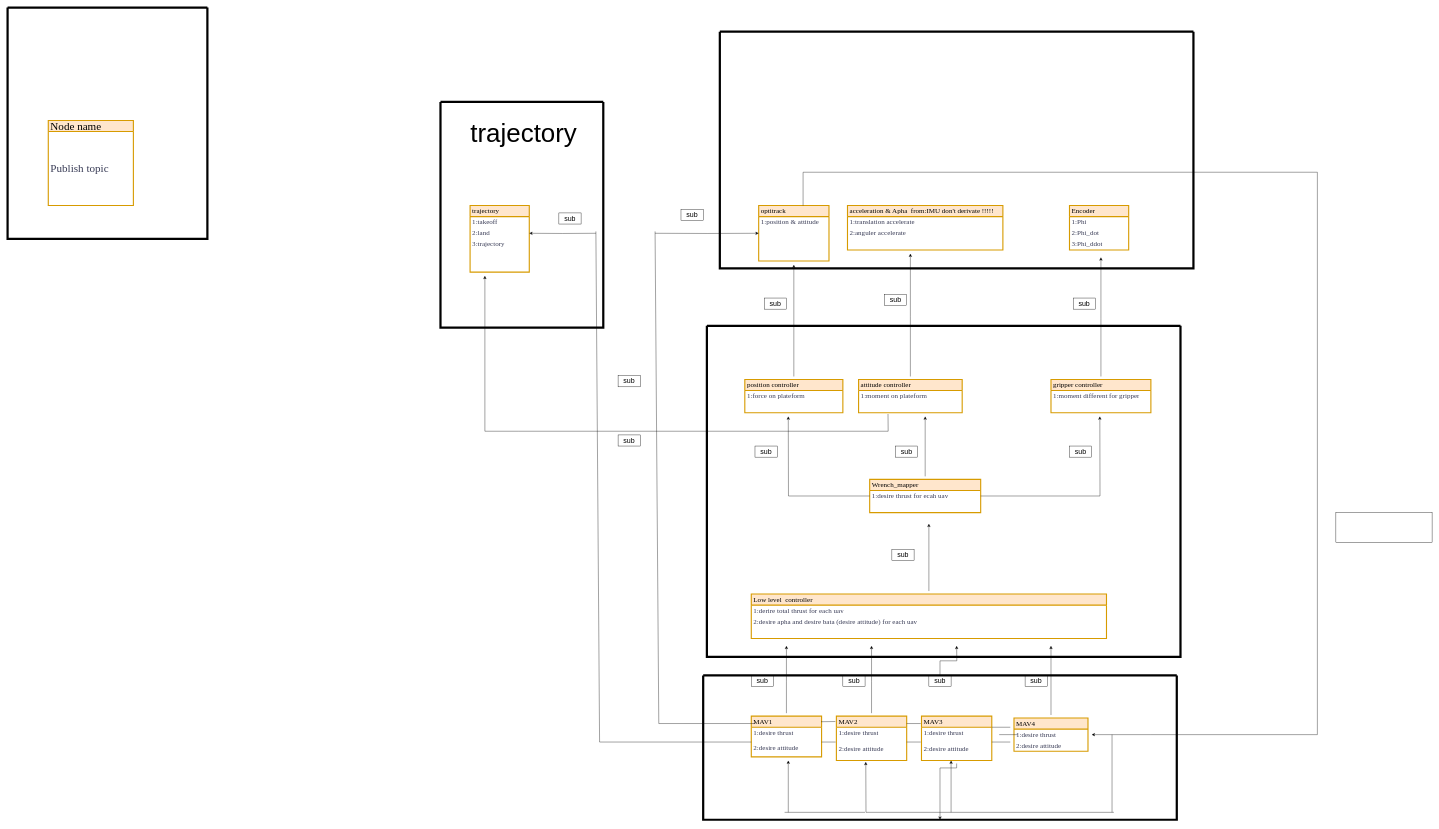
The diagram is 1439 pixels wide and 829 high, and some of its shapes have lost their labels. Each missing label, with the centre of its shape:
"controller" goes at (x=943, y=491).
"MAV" goes at (x=940, y=747).
"package name" goes at (x=107, y=123).
"sensing" goes at (x=1384, y=527).
"sensor" goes at (x=956, y=149).
